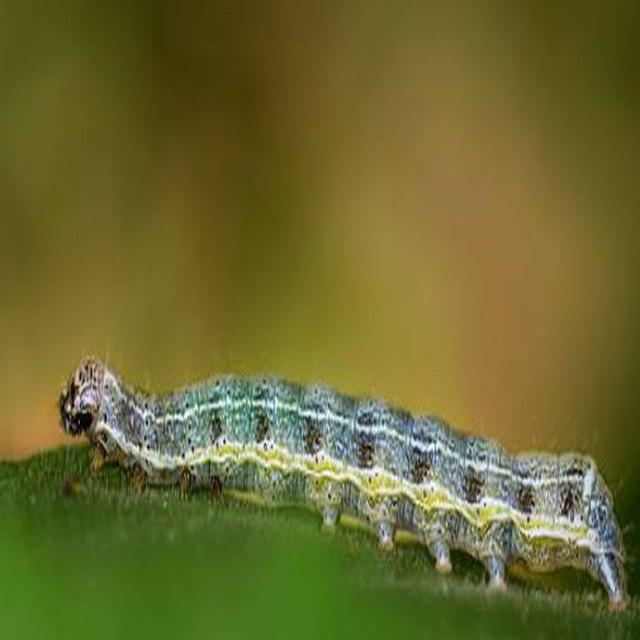gusano_cogollero: (55, 358, 627, 602)
